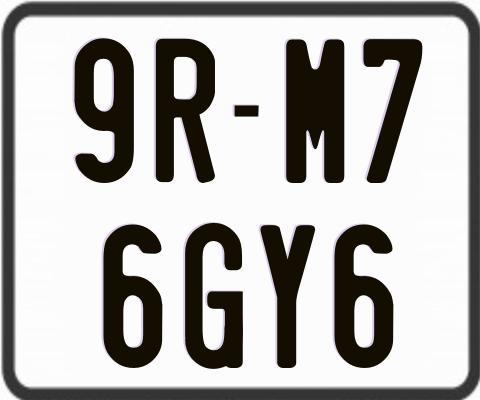6: (102, 222, 166, 368), (331, 223, 394, 367)
7: (361, 36, 420, 180)
9: (71, 37, 134, 183)
G: (183, 221, 243, 372)
M: (286, 39, 344, 188)
R: (154, 37, 218, 187)
Y: (260, 223, 317, 371)
